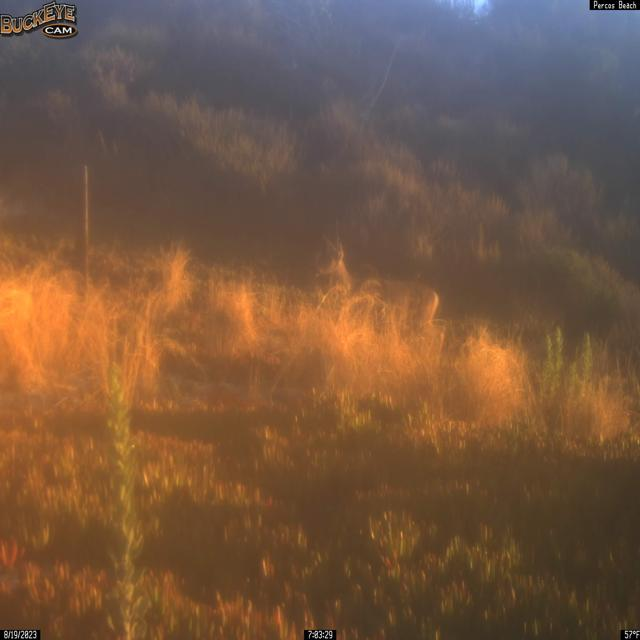deer: (314, 222, 445, 364)
